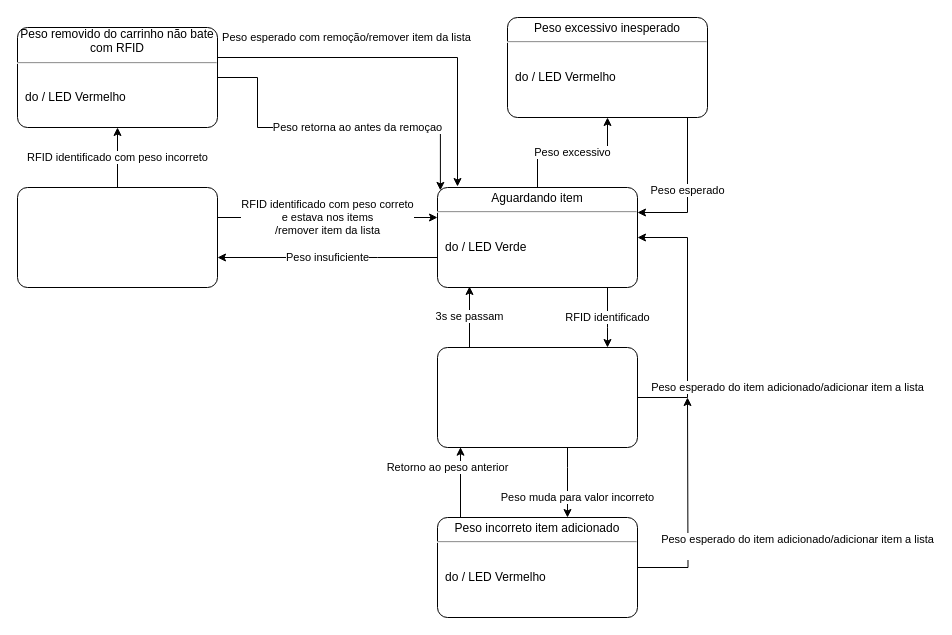
Some shapes in this 952 by 635 pixel diagram are drawn without their labels. The box of each missing label's shape, as (x1, y1, x2, y2) in pixels:
Item a ser adicionado identificado do / LED Azul: (436, 346, 638, 448)
Item removido do carrinho do / LED Azul: (16, 186, 218, 288)
